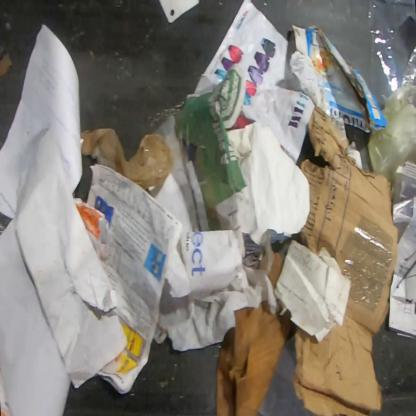cardboard: (291, 106, 399, 415), (288, 22, 388, 134)
soft_plastic: (367, 84, 415, 246), (79, 127, 174, 191), (366, 0, 416, 110)
